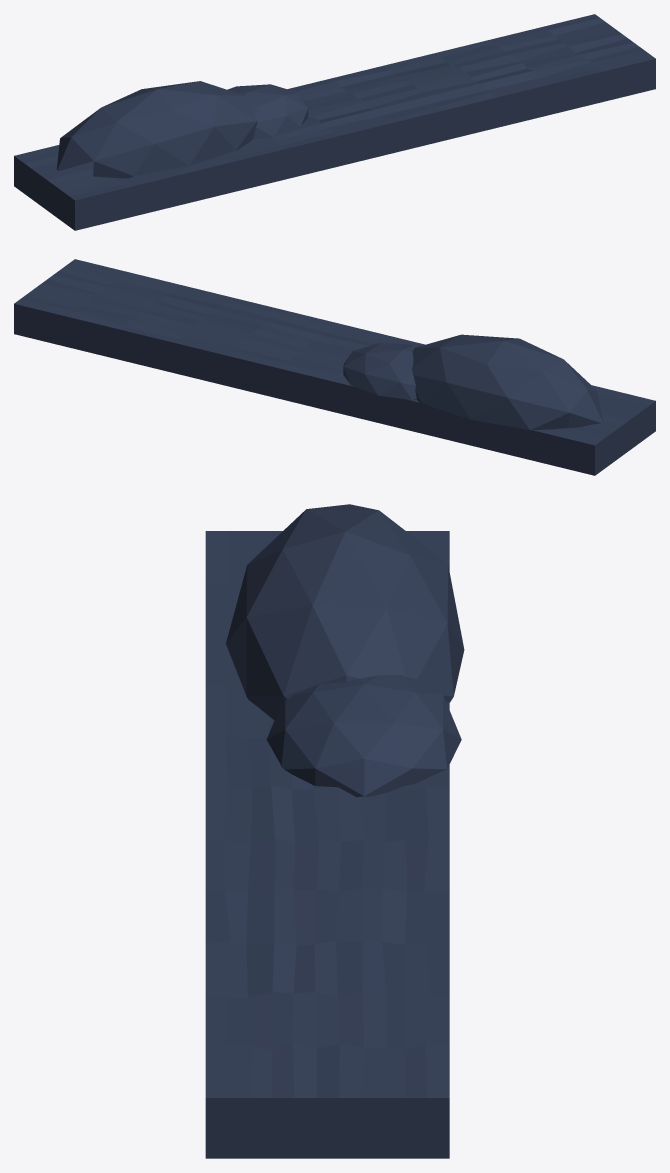
File: ground.glb
The picture shows the model from 3 angles, top to bottom: view 1: azimuth 30°, elevation 25°; view 2: azimuth 150°, elevation 25°; view 3: azimuth 270°, elevation 25°; orthographic projection. The views are drawn at different scales.
Parts seen in each view (by area): view 1: Ground; view 2: Ground; view 3: Ground.
Part boxes in pixels (x1,y1,x2,y2): Ground: [14, 14, 655, 230]; Ground: [14, 259, 655, 475]; Ground: [205, 504, 464, 1158].
Bounding box in the file's own units: 22 × 3.16 × 4.24.
